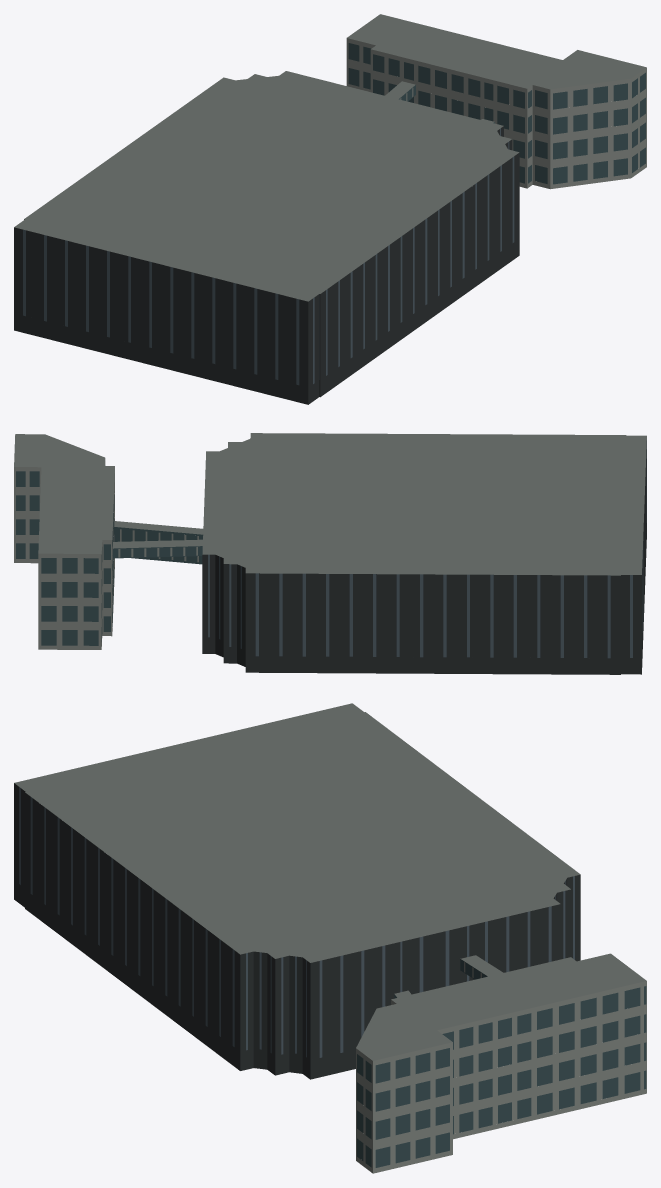
Rendered from ziggo-dome-far.glb.
The picture shows the model from 3 angles, top to bottom: view 1: azimuth 30°, elevation 25°; view 2: azimuth 150°, elevation 25°; view 3: azimuth 270°, elevation 25°; orthographic projection. The views are drawn at different scales.
Visible parts, largest first — view 1: ziggo-dome-0-roof, ziggo-dome-0-black, ziggo-dome-0-steel, ziggo-dome-0-glass, ziggo-dome-0-led; view 2: ziggo-dome-0-roof, ziggo-dome-0-black, ziggo-dome-0-glass, ziggo-dome-0-led, ziggo-dome-0-steel; view 3: ziggo-dome-0-roof, ziggo-dome-0-black, ziggo-dome-0-steel, ziggo-dome-0-glass, ziggo-dome-0-led.
Part boxes in pixels (bbox=[...]): ziggo-dome-0-roof: bbox=[14, 14, 646, 301]; ziggo-dome-0-black: bbox=[14, 126, 519, 404]; ziggo-dome-0-steel: bbox=[346, 38, 646, 189]; ziggo-dome-0-glass: bbox=[348, 43, 645, 184]; ziggo-dome-0-led: bbox=[23, 128, 514, 385]; ziggo-dome-0-roof: bbox=[14, 433, 646, 575]; ziggo-dome-0-black: bbox=[202, 449, 646, 674]; ziggo-dome-0-glass: bbox=[16, 465, 203, 645]; ziggo-dome-0-led: bbox=[208, 440, 646, 658]; ziggo-dome-0-steel: bbox=[14, 461, 198, 649]; ziggo-dome-0-roof: bbox=[14, 703, 646, 1060]; ziggo-dome-0-black: bbox=[14, 783, 580, 1079]; ziggo-dome-0-steel: bbox=[356, 962, 646, 1173]; ziggo-dome-0-glass: bbox=[357, 959, 646, 1167]; ziggo-dome-0-led: bbox=[19, 787, 574, 1057].
Bounding box in the file's own units: 195 × 30 × 148.
